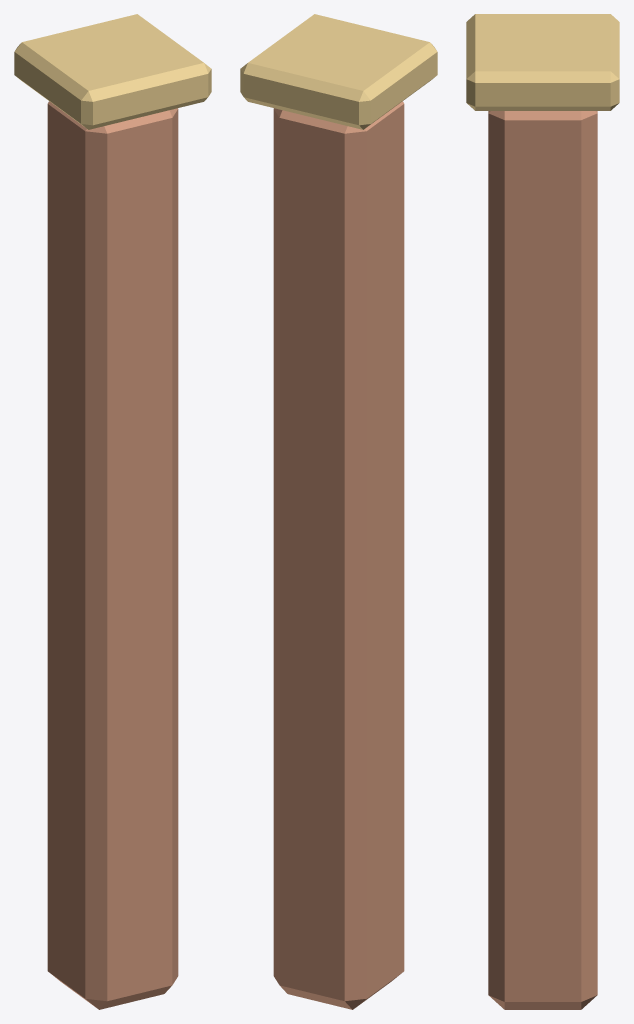
File: corner_post.glb
3 views of the same model, side by side, from view 1: azimuth 30°, elevation 25°; view 2: azimuth 150°, elevation 25°; view 3: azimuth 270°, elevation 25° (orthographic).
Visible parts, largest first — view 1: corner_post; view 2: corner_post; view 3: corner_post.
Boxes of the visible parts, x1,y1,x2,y2 form: corner_post: [14, 14, 211, 1009]; corner_post: [240, 14, 437, 1009]; corner_post: [466, 14, 619, 1009].
Bounding box in the file's own units: 0.14 × 0.96 × 0.14.
